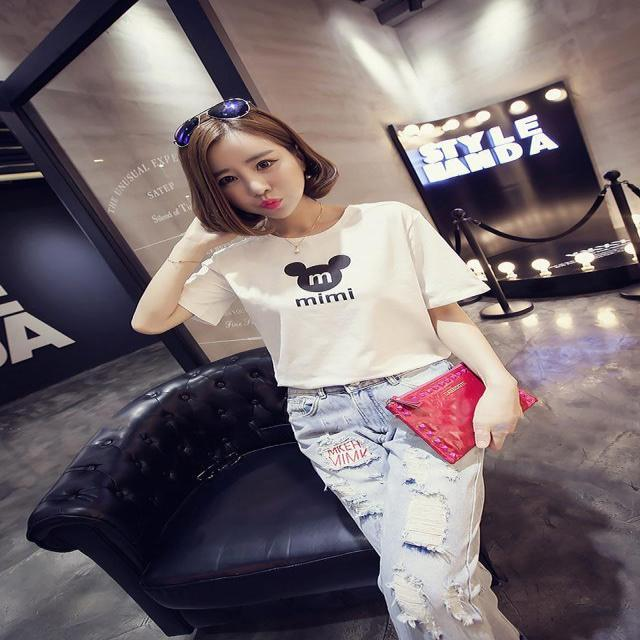short sleeve top: (175, 205, 487, 387)
trousers: (283, 355, 482, 555)
